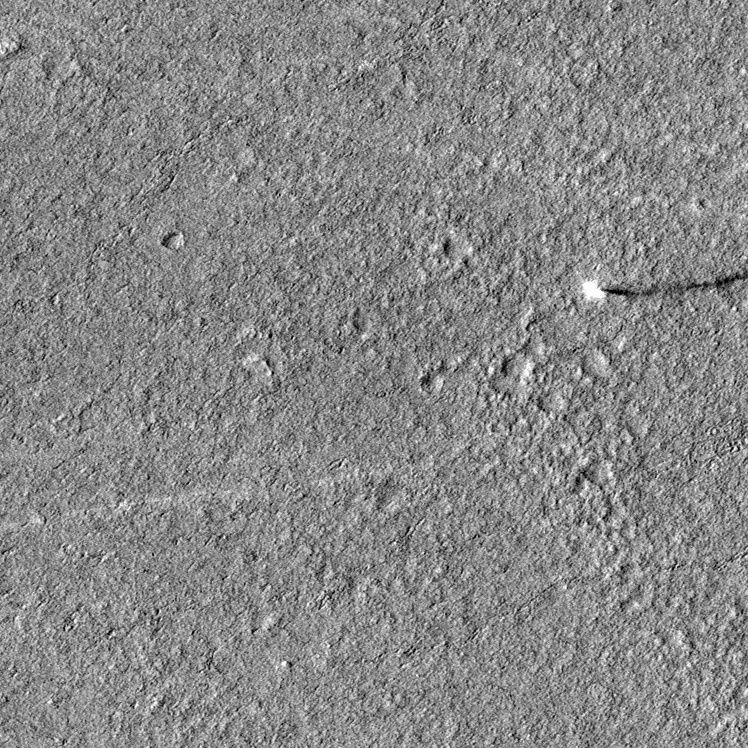dust_devil: (579, 269, 748, 303)
